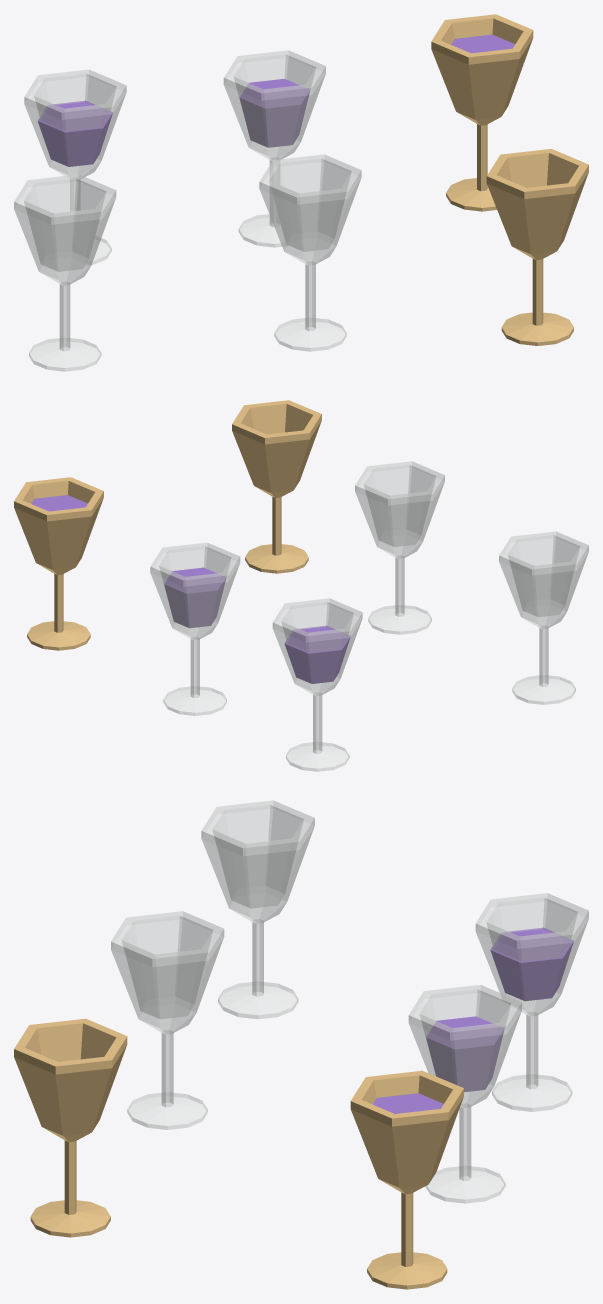
File: goblets.gltf
3 renders of one model, top to bottom at view 1: azimuth 30°, elevation 25°; view 2: azimuth 150°, elevation 25°; view 3: azimuth 270°, elevation 25°, orthographic. The views are drawn at different scales.
Parts seen in each view (by area): view 1: node-0; view 2: node-0; view 3: node-0.
Part boxes in pixels (x1,y1,x2,y2): node-0: (14,14,588,371); node-0: (14,400,588,771); node-0: (14,800,588,1289).
Bounding box in the file's own units: 1.64 × 0.49 × 1.29.
